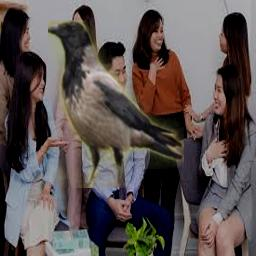Crow: (48, 20, 184, 188)
